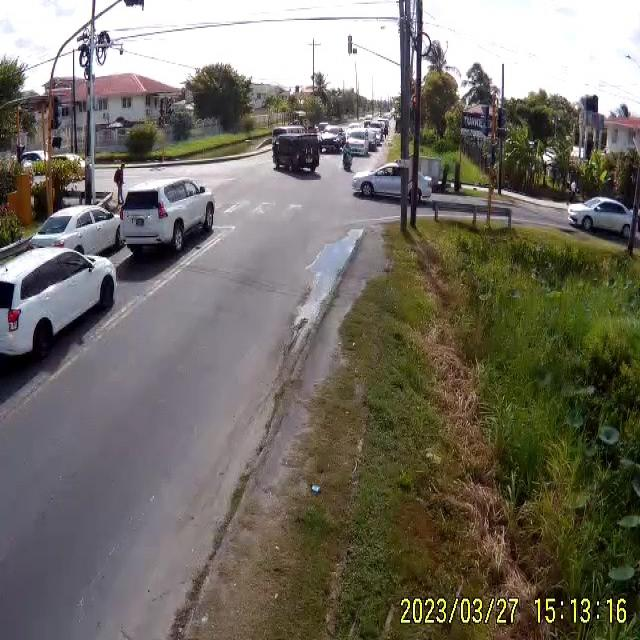car: (0, 243, 119, 380), (120, 178, 216, 257), (32, 205, 124, 255), (352, 161, 434, 204), (569, 198, 637, 240), (272, 130, 320, 172), (319, 127, 347, 153), (343, 133, 368, 157)
